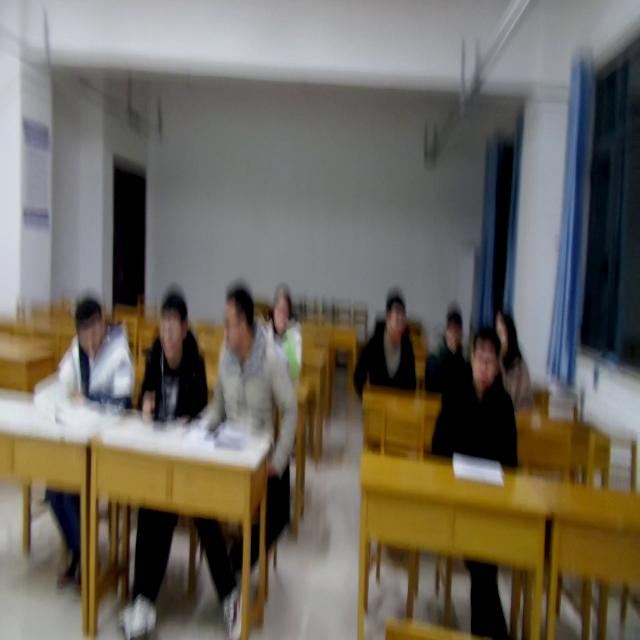down: (72, 289, 104, 359)
lookup: (152, 284, 191, 362), (464, 322, 500, 398), (494, 302, 524, 364), (384, 286, 410, 338), (269, 280, 293, 334), (442, 301, 466, 353)
sit: (198, 279, 298, 437), (426, 328, 522, 473), (135, 290, 209, 430), (54, 292, 134, 414), (355, 288, 417, 396), (490, 306, 534, 410), (424, 303, 472, 397), (266, 283, 304, 375)
